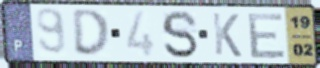4: (124, 9, 158, 59)
9: (35, 6, 69, 60)
D: (70, 8, 112, 59)
E: (246, 11, 288, 60)
K: (210, 11, 244, 59)
S: (160, 9, 201, 60)
